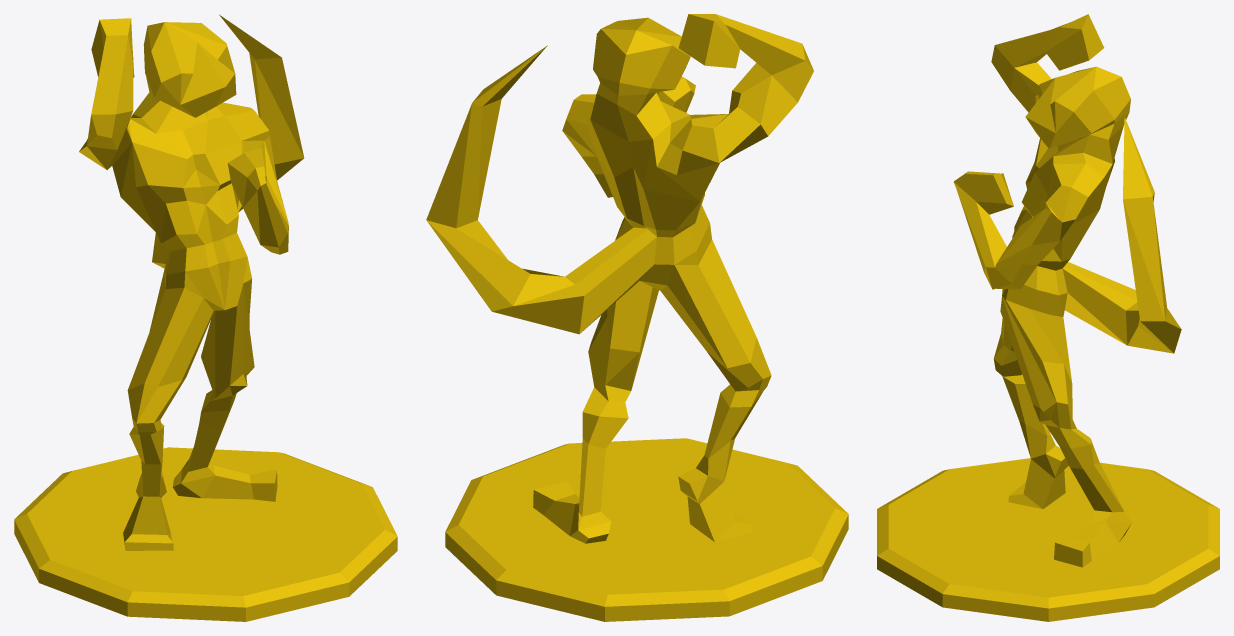
File: neWt.fbx
The picture shows the model from 3 angles, left to right: view 1: azimuth 30°, elevation 25°; view 2: azimuth 150°, elevation 25°; view 3: azimuth 270°, elevation 25°; orthographic projection. The views are drawn at different scales.
Visible parts, largest first — view 1: pasted__pasted__pasted__pCube2; view 2: pasted__pasted__pasted__pCube2; view 3: pasted__pasted__pasted__pCube2.
Part boxes in pixels (left/top/right/bottom): pasted__pasted__pasted__pCube2: left=14, top=14, right=397, bottom=621; pasted__pasted__pasted__pCube2: left=426, top=14, right=848, bottom=621; pasted__pasted__pasted__pCube2: left=877, top=14, right=1219, bottom=621.
Size of the model in its own units: 168 by 254 by 160.
